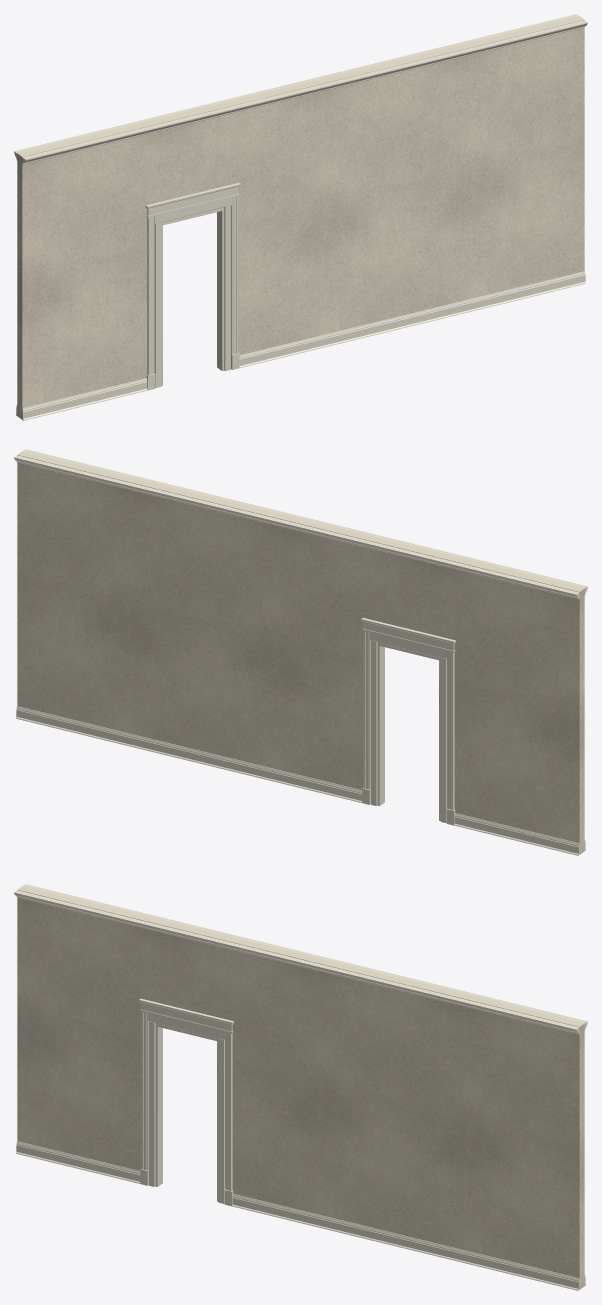
File: pw_hall.glb
The picture shows the model from 3 angles, top to bottom: view 1: azimuth 30°, elevation 25°; view 2: azimuth 150°, elevation 25°; view 3: azimuth 330°, elevation 25°; orthographic projection.
Visible parts, largest first — view 1: pw_hall_plaster, molduras, pw_hall_frame; view 2: pw_hall_plaster, molduras, pw_hall_frame; view 3: pw_hall_plaster, molduras, pw_hall_frame.
Boxes of the visible parts, box(x1,y1,x2,y2) form: pw_hall_plaster: box(17, 16, 584, 419); molduras: box(14, 14, 587, 420); pw_hall_frame: box(154, 197, 231, 387); pw_hall_plaster: box(17, 451, 584, 854); molduras: box(14, 449, 587, 855); pw_hall_frame: box(370, 632, 447, 822); pw_hall_plaster: box(17, 886, 584, 1289); molduras: box(14, 884, 587, 1290); pw_hall_frame: box(148, 1013, 225, 1203).
Bounding box in the file's own units: 7.6 × 3.39 × 0.27.
Materials: 3 (1 with a texture image).
